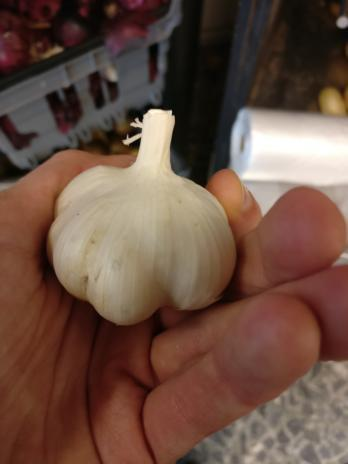Garlic: (39, 107, 236, 323)
